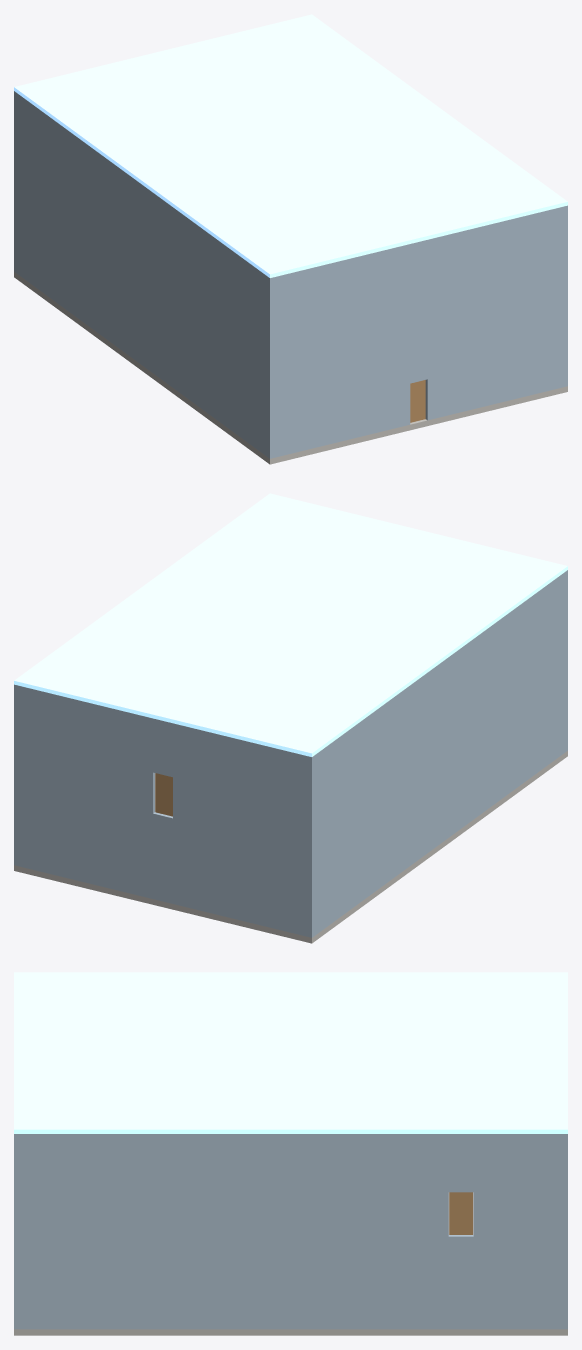
3 renders of one model, top to bottom at view 1: azimuth 30°, elevation 25°; view 2: azimuth 150°, elevation 25°; view 3: azimuth 270°, elevation 25°, orthographic. The views are drawn at different scales.
Parts seen in each view (by area): view 1: Well_Ceiling, Well_Wall_W_1, Well_Wall_S_1, Well_Wall_S_3, Well_Floor, Well_Wall_S_2, DoorLeaf_wing_entertainment; view 2: Well_Ceiling, Well_Wall_W_1, Well_Wall_N_1, Well_Wall_N_4, Well_Floor, Well_Wall_N_2, Well_Wall_N_3, DoorLeaf_sky_hall_02; view 3: Well_Ceiling, Well_Wall_E_4, Well_Wall_E_1, Well_Floor, Well_Wall_E_2, Well_Wall_E_3, DoorLeaf_sky_hall_03, Well_Wall_N_4, Well_Wall_S_3.
Part boxes in pixels (bbox=[...]): Well_Ceiling: bbox=[14, 14, 567, 277]; Well_Wall_W_1: bbox=[16, 92, 267, 456]; Well_Wall_S_1: bbox=[268, 244, 410, 458]; Well_Wall_S_3: bbox=[425, 205, 567, 420]; Well_Floor: bbox=[14, 272, 567, 464]; Well_Wall_S_2: bbox=[410, 240, 427, 383]; DoorLeaf_wing_entertainment: bbox=[410, 380, 425, 422]; Well_Ceiling: bbox=[14, 493, 567, 756]; Well_Wall_W_1: bbox=[314, 571, 565, 935]; Well_Wall_N_1: bbox=[173, 723, 313, 937]; Well_Wall_N_4: bbox=[14, 684, 154, 898]; Well_Floor: bbox=[14, 751, 567, 943]; Well_Wall_N_2: bbox=[153, 812, 172, 903]; Well_Wall_N_3: bbox=[153, 718, 172, 777]; DoorLeaf_sky_hall_02: bbox=[155, 773, 172, 816]; Well_Ceiling: bbox=[14, 972, 567, 1133]; Well_Wall_E_4: bbox=[18, 1134, 448, 1329]; Well_Wall_E_1: bbox=[473, 1134, 563, 1329]; Well_Floor: bbox=[14, 1329, 567, 1335]; Well_Wall_E_2: bbox=[448, 1235, 473, 1329]; Well_Wall_E_3: bbox=[448, 1134, 473, 1192]; DoorLeaf_sky_hall_03: bbox=[449, 1192, 472, 1234]; Well_Wall_N_4: bbox=[563, 1134, 567, 1329]; Well_Wall_S_3: bbox=[14, 1134, 18, 1329].
Size of the model in its own units: 16.4 by 10 by 24.4.
